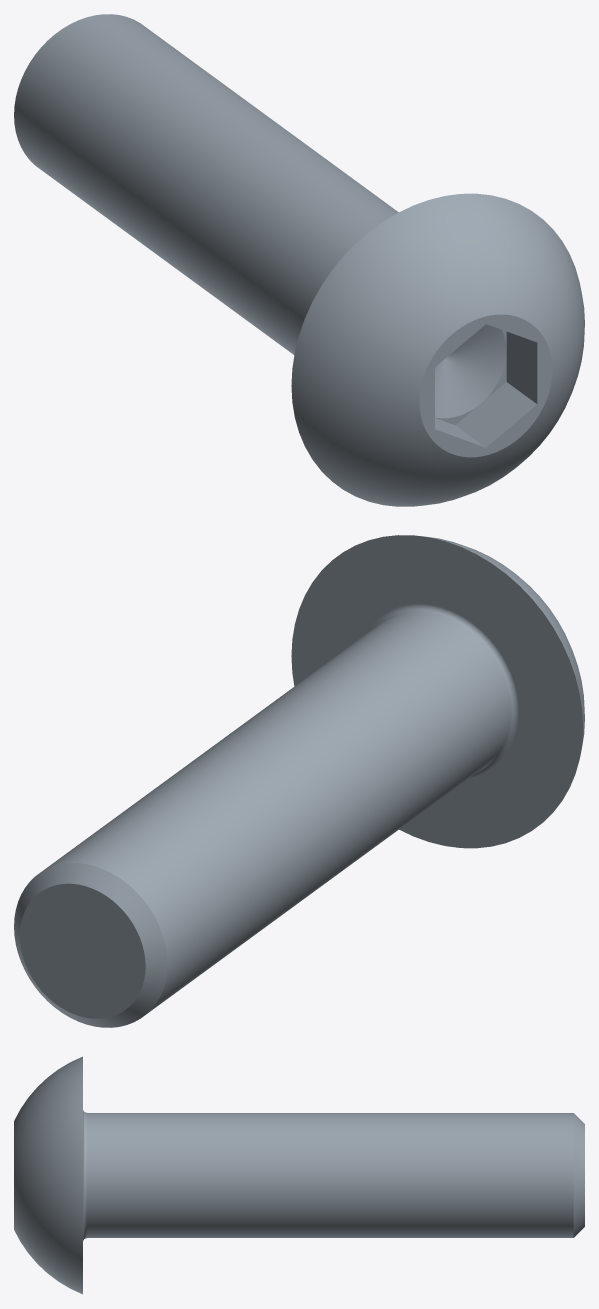
The model's file is 058_Socket_button_head_screw_M3x0_5_x_12.obj.
3 renders of one model, top to bottom at view 1: azimuth 30°, elevation 25°; view 2: azimuth 150°, elevation 25°; view 3: azimuth 270°, elevation 25°, orthographic. The views are drawn at different scales.
Parts seen in each view (by area): view 1: mesh239, mesh242, mesh243, mesh251, mesh248, mesh249; view 2: mesh239, mesh241, mesh237, mesh238, mesh240, mesh242; view 3: mesh239, mesh242, mesh238, mesh240.
Part boxes in pixels (x1,y1,x2,y2): mesh239: (14, 14, 398, 354); mesh242: (291, 193, 584, 506); mesh243: (419, 314, 552, 457); mesh251: (435, 324, 506, 418); mesh248: (455, 382, 536, 447); mesh249: (506, 331, 537, 403); mesh239: (43, 611, 510, 1013); mesh241: (291, 535, 582, 848); mesh237: (20, 883, 145, 1018); mesh238: (14, 863, 167, 1027); mesh240: (364, 604, 519, 778); mesh242: (417, 535, 584, 755); mesh239: (87, 1113, 573, 1237); mesh242: (14, 1056, 82, 1294); mesh238: (573, 1113, 584, 1237); mesh240: (83, 1110, 87, 1240).
Size of the model in its own units: 0.0057 by 0.00569 by 0.0137.
